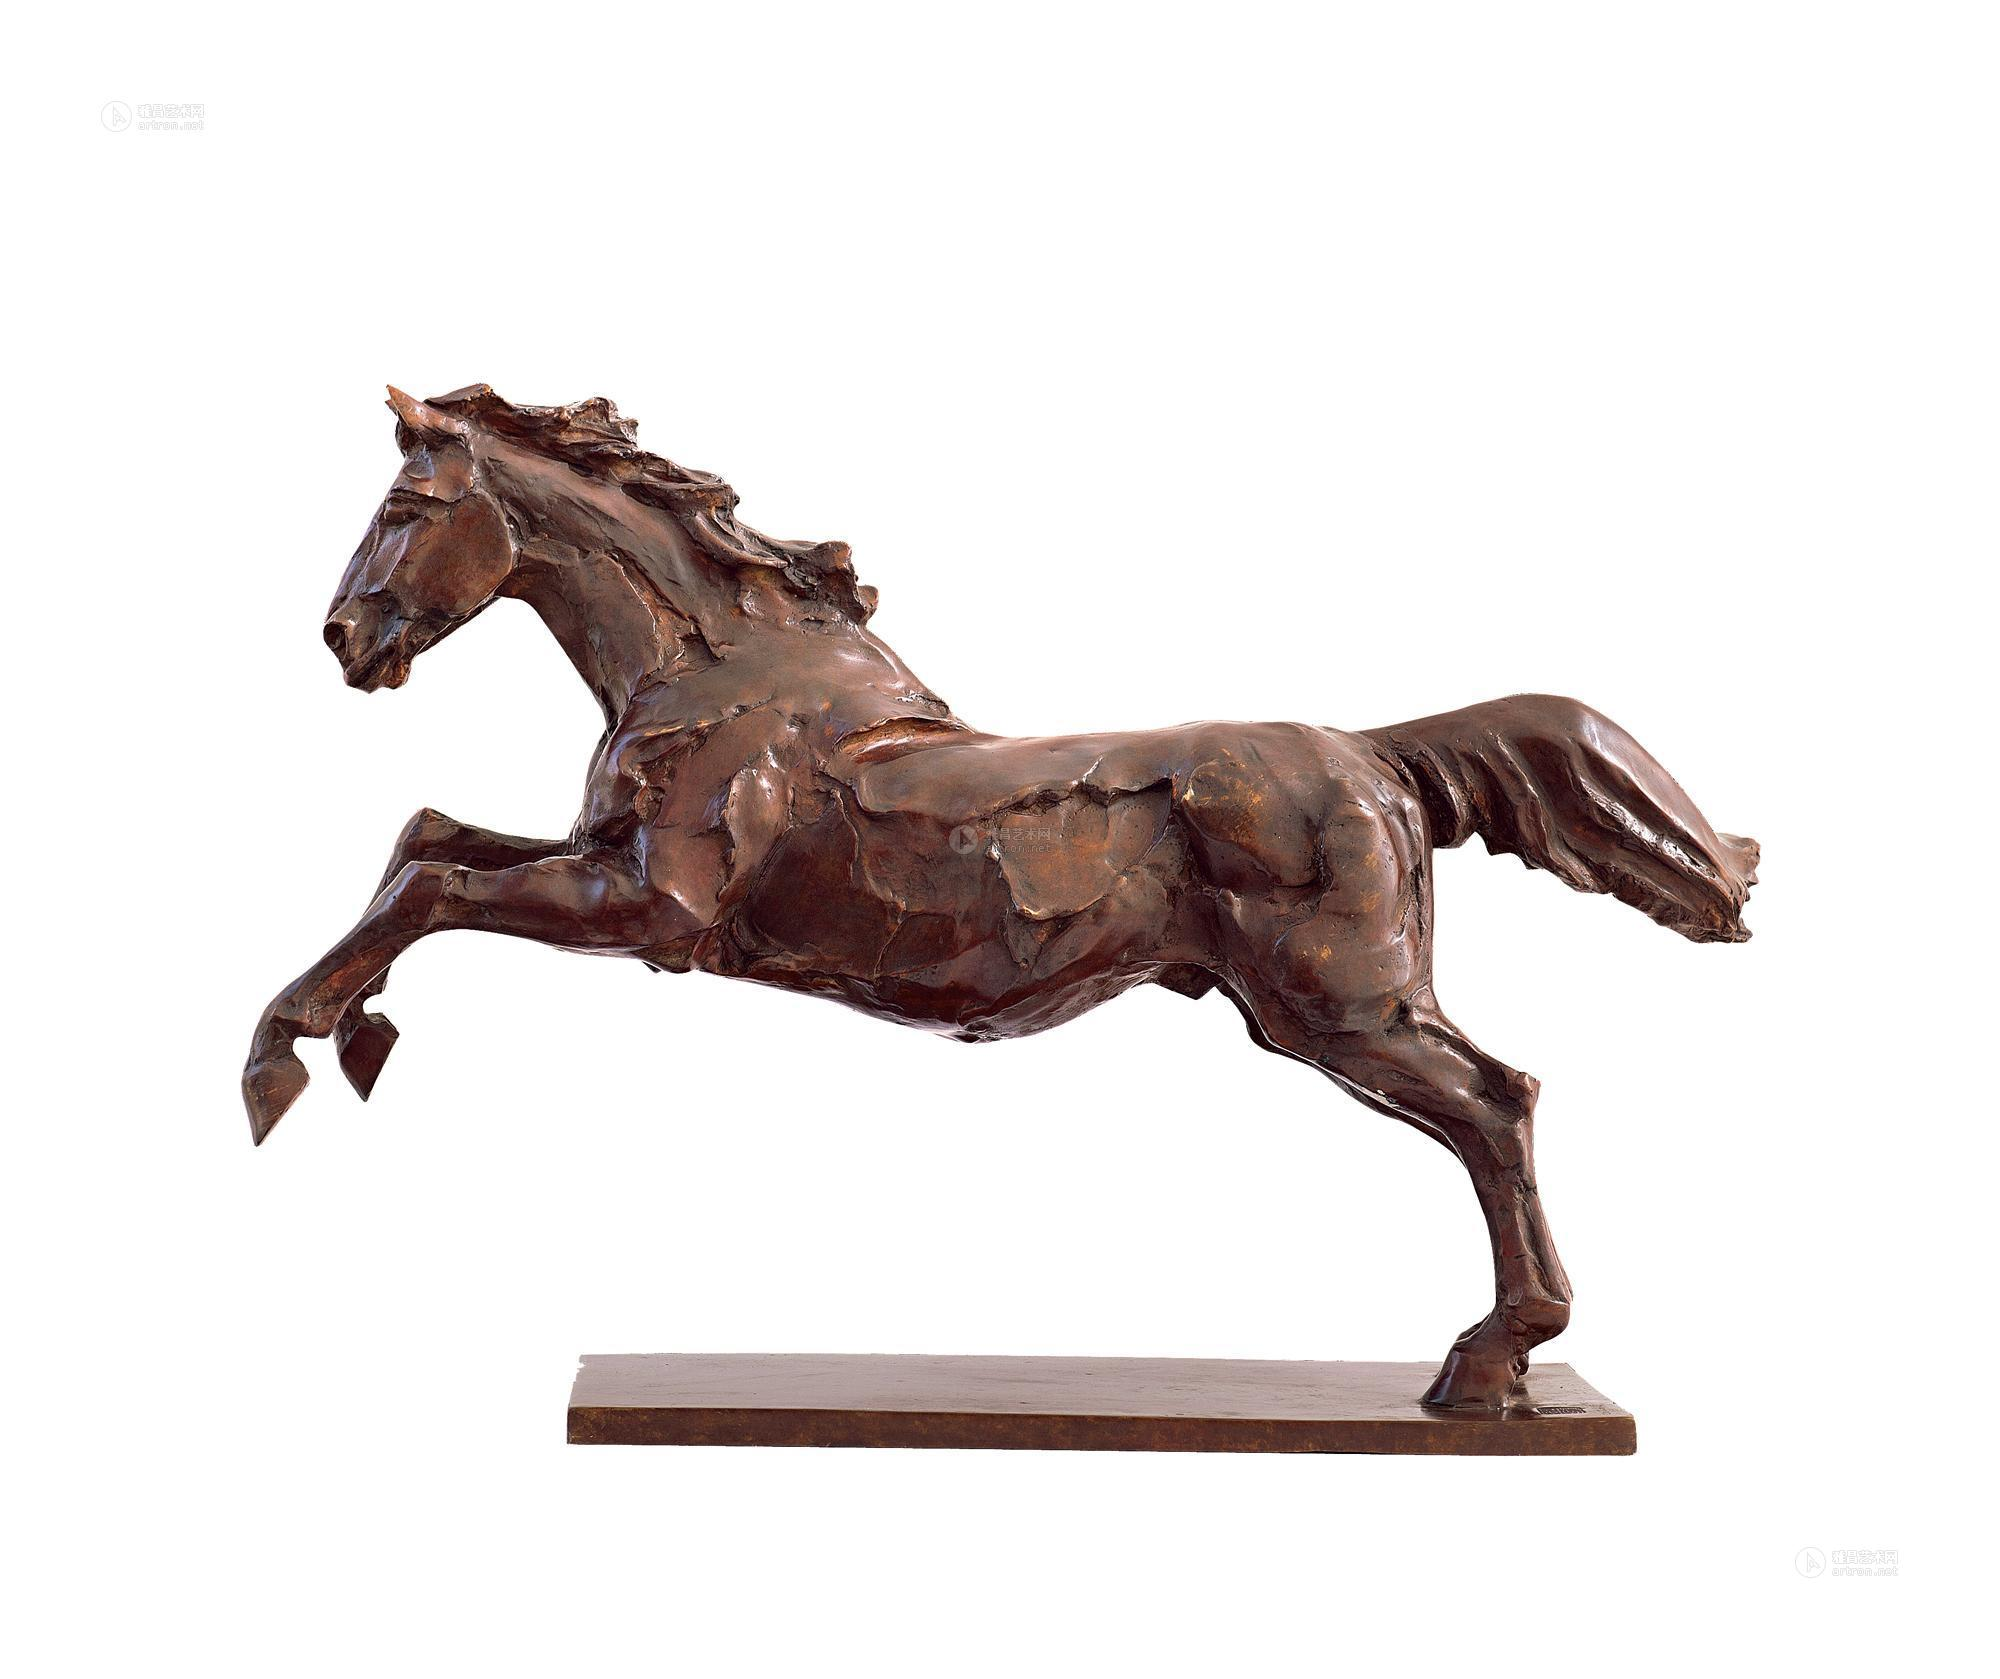background: (226, 356, 1754, 1354)
